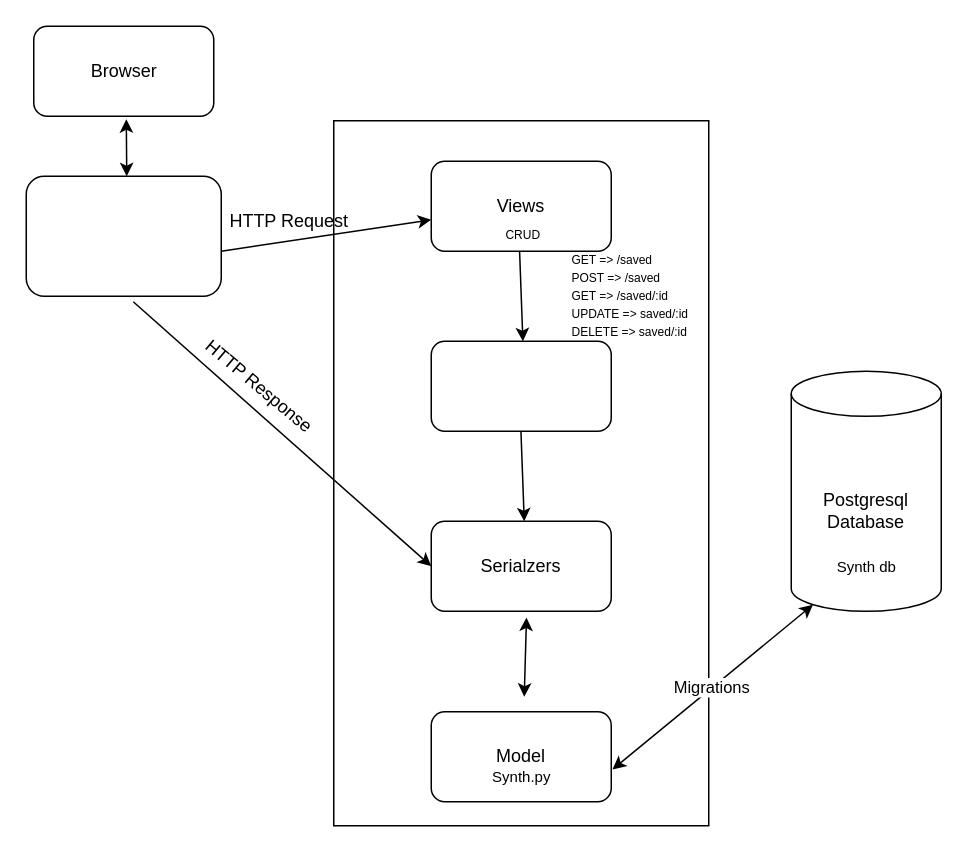
The diagram is 968 pixels wide and 852 high, and some of its shapes have lost their labels. Each missing label, with the centre of its shape:
Django Client: the point at 123,235
urls: the point at 520,385
